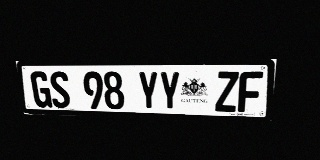8: (103, 71, 125, 109)
9: (82, 71, 105, 109)
F: (238, 71, 263, 113)
G: (30, 71, 52, 108)
S: (48, 71, 71, 108)
Y: (137, 71, 159, 110), (159, 71, 180, 111)
Z: (215, 71, 239, 112)
